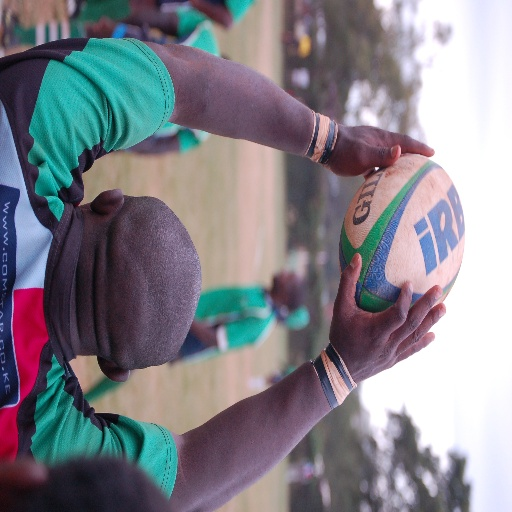hand: (296, 243, 464, 400), (331, 122, 434, 178)
